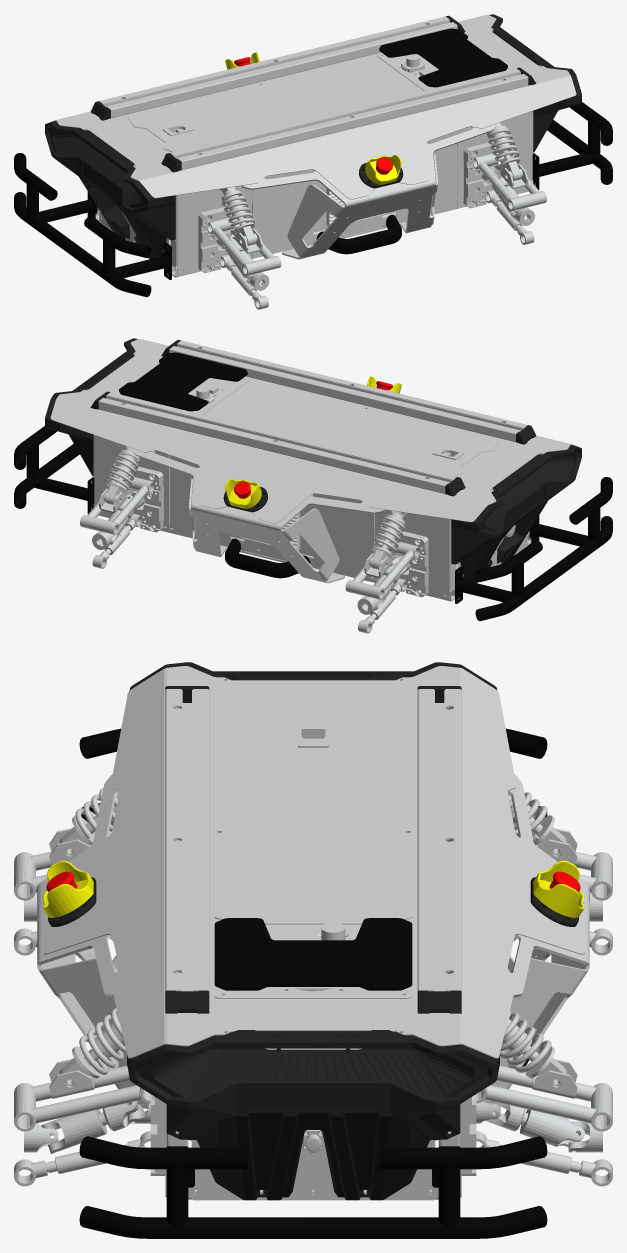
3 views of the same model, one above another, from view 1: azimuth 30°, elevation 25°; view 2: azimuth 150°, elevation 25°; view 3: azimuth 270°, elevation 25° (orthographic). The views are drawn at different scales.
Parts seen in each view (by area): view 1: node1, node0, node3, node4; view 2: node1, node0, node3, node4; view 3: node1, node3, node0, node4.
Boxes of the visible parts, x1=… form: node1: x1=51, y1=15, x2=576, y2=309; node0: x1=14, y1=28, x2=612, y2=297; node3: x1=45, y1=14, x2=581, y2=259; node4: x1=225, y1=52, x2=401, y2=184; node1: x1=50, y1=339, x2=575, y2=633; node0: x1=14, y1=352, x2=612, y2=621; node3: x1=45, y1=338, x2=581, y2=583; node4: x1=225, y1=376, x2=401, y2=508; node1: x1=14, y1=666, x2=612, y2=1200; node3: x1=48, y1=662, x2=578, y2=1200; node0: x1=79, y1=728, x2=547, y2=1238; node4: x1=42, y1=860, x2=584, y2=917.
Size of the model in its own units: 0.9299 by 0.546 by 0.2324.
